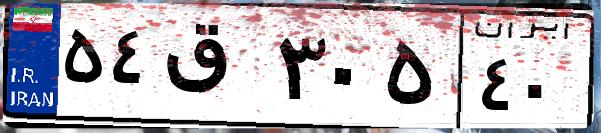0: (330, 28, 385, 110), (525, 38, 570, 115)
3: (270, 28, 330, 110)
4: (475, 38, 525, 113), (110, 28, 158, 98)
5: (385, 28, 445, 110), (57, 26, 110, 100)
ق: (158, 20, 270, 120)
